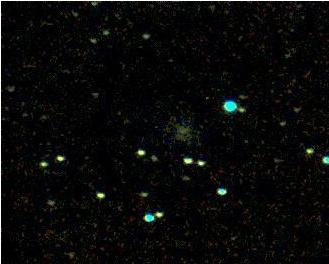star: (57, 237, 87, 264)
